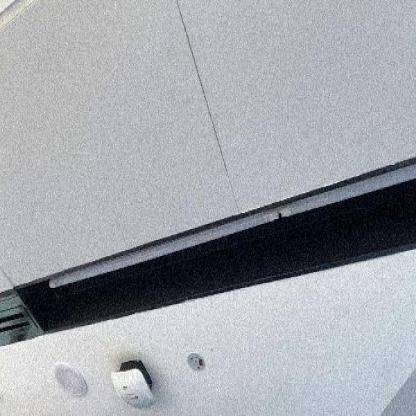light_off: (40, 132, 414, 314)
